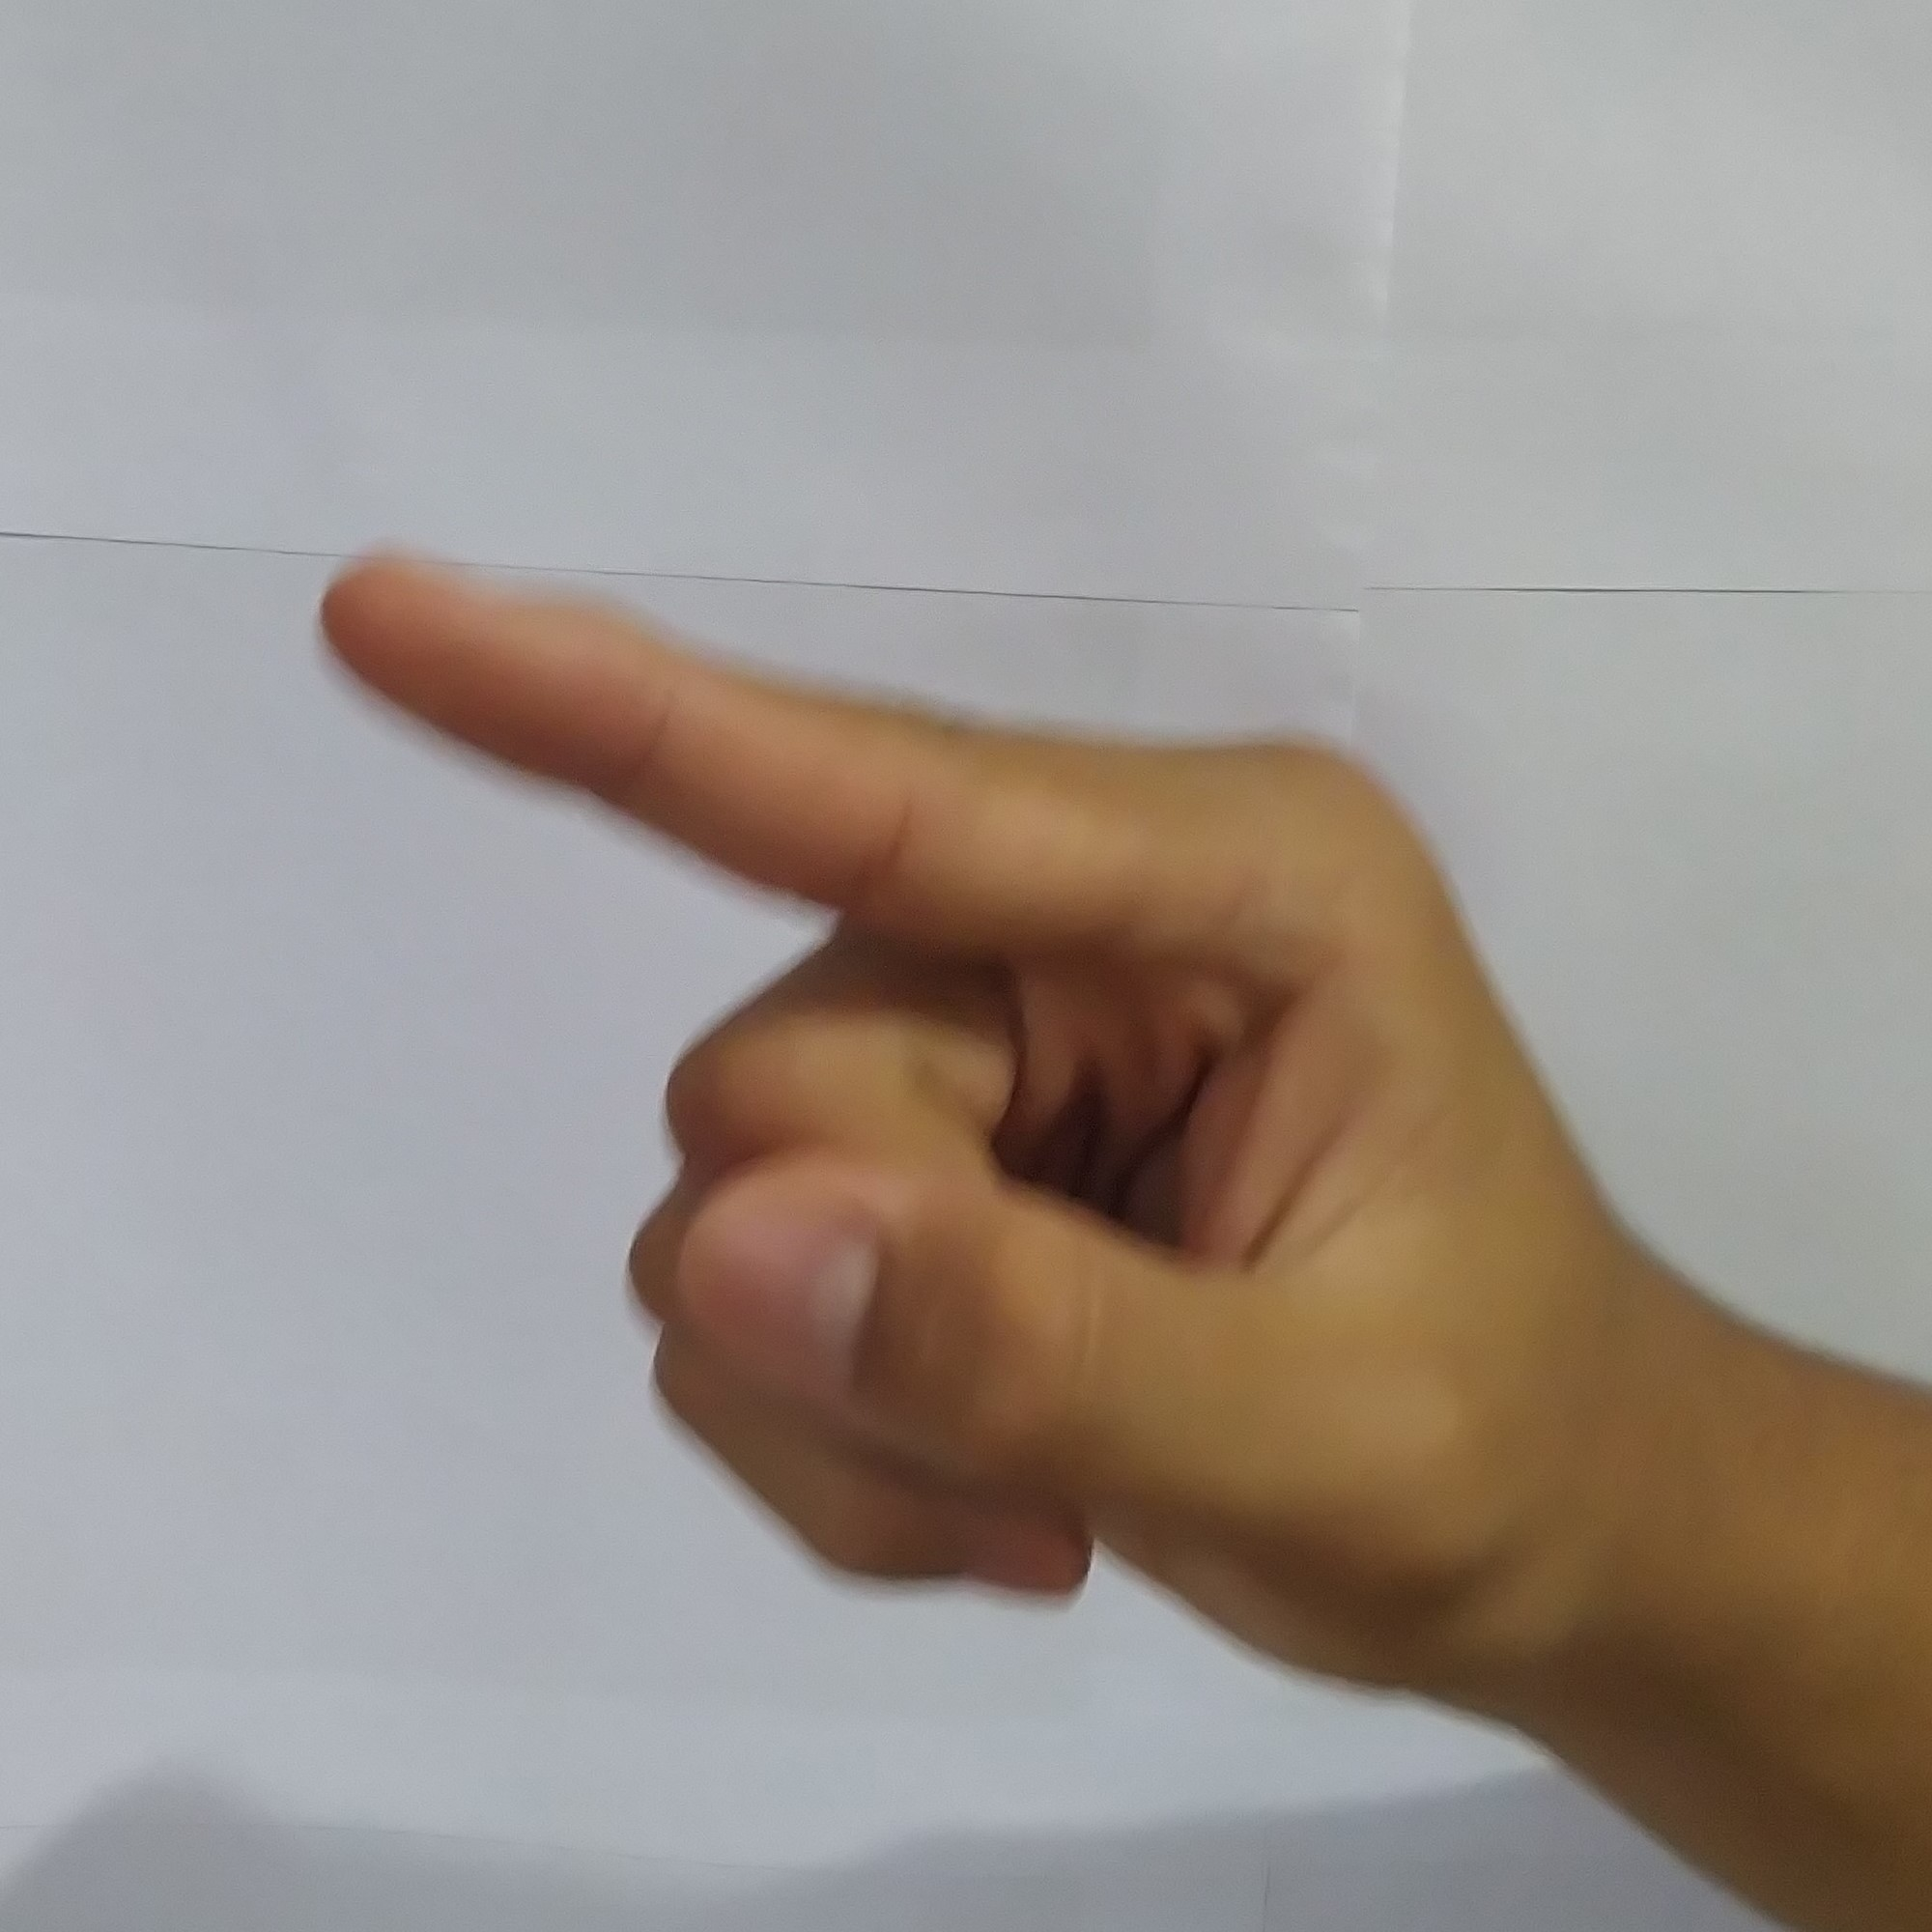Z: (276, 513, 1736, 1706)
